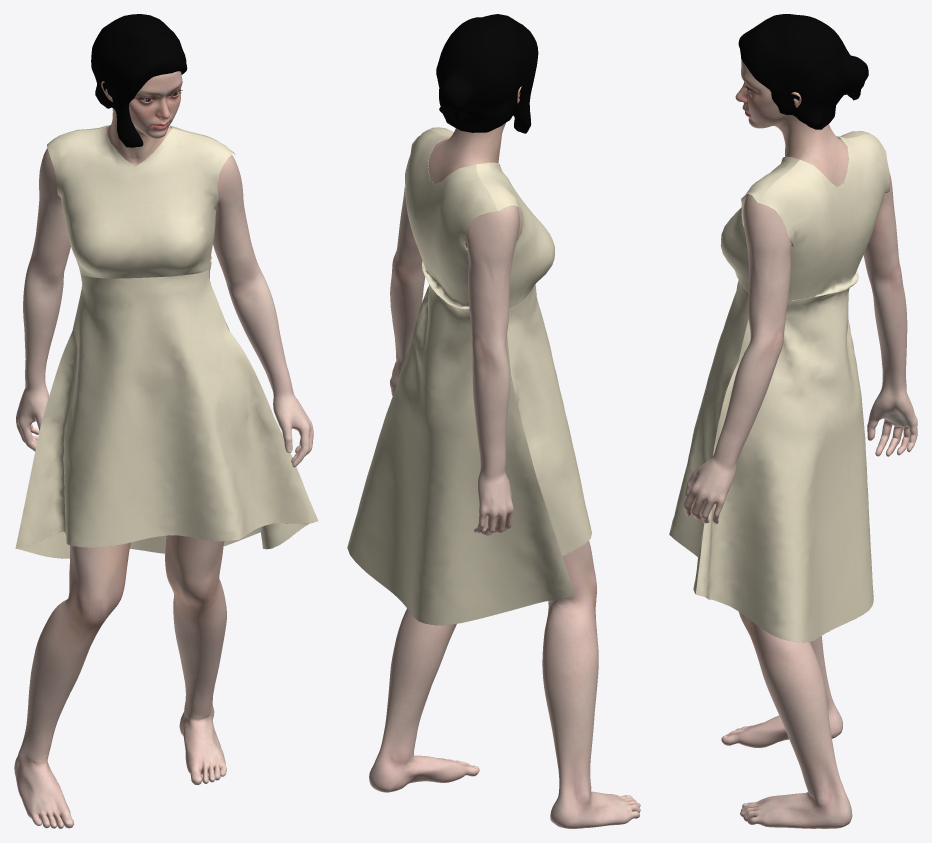
File: Dynamic.obj
The picture shows the model from 3 angles, left to right: view 1: azimuth 30°, elevation 25°; view 2: azimuth 150°, elevation 25°; view 3: azimuth 270°, elevation 25°; orthographic projection. The views are drawn at different scales.
Bounding box in the file's own units: 623 × 1724 × 500.
